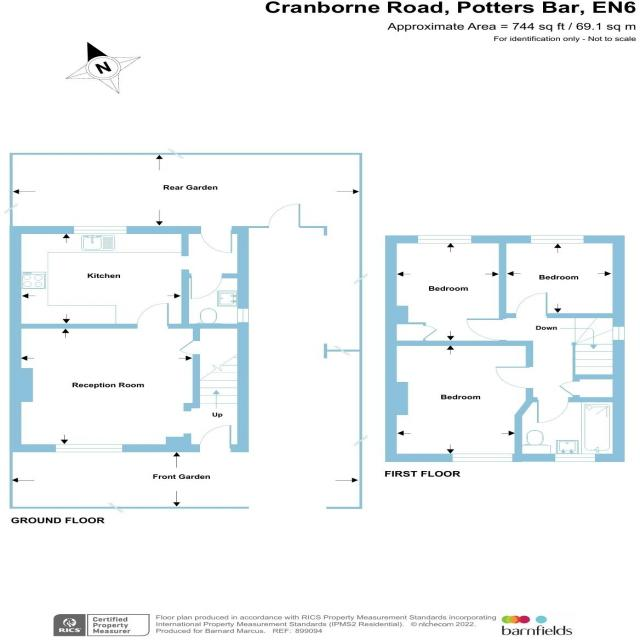DOOR: (494, 365, 534, 389), (466, 317, 506, 341), (198, 424, 232, 452), (199, 226, 233, 253), (514, 292, 549, 318), (136, 302, 170, 328), (536, 397, 569, 423), (190, 273, 223, 299), (177, 340, 200, 355)
ROOM: (9, 302, 200, 452), (9, 226, 189, 329), (384, 341, 533, 462), (385, 235, 507, 346), (499, 235, 625, 320)
WINDOW: (451, 453, 513, 463), (55, 444, 123, 453), (72, 225, 128, 235), (417, 235, 473, 244), (530, 235, 585, 244), (554, 453, 596, 462), (612, 326, 625, 341), (237, 308, 249, 323)
